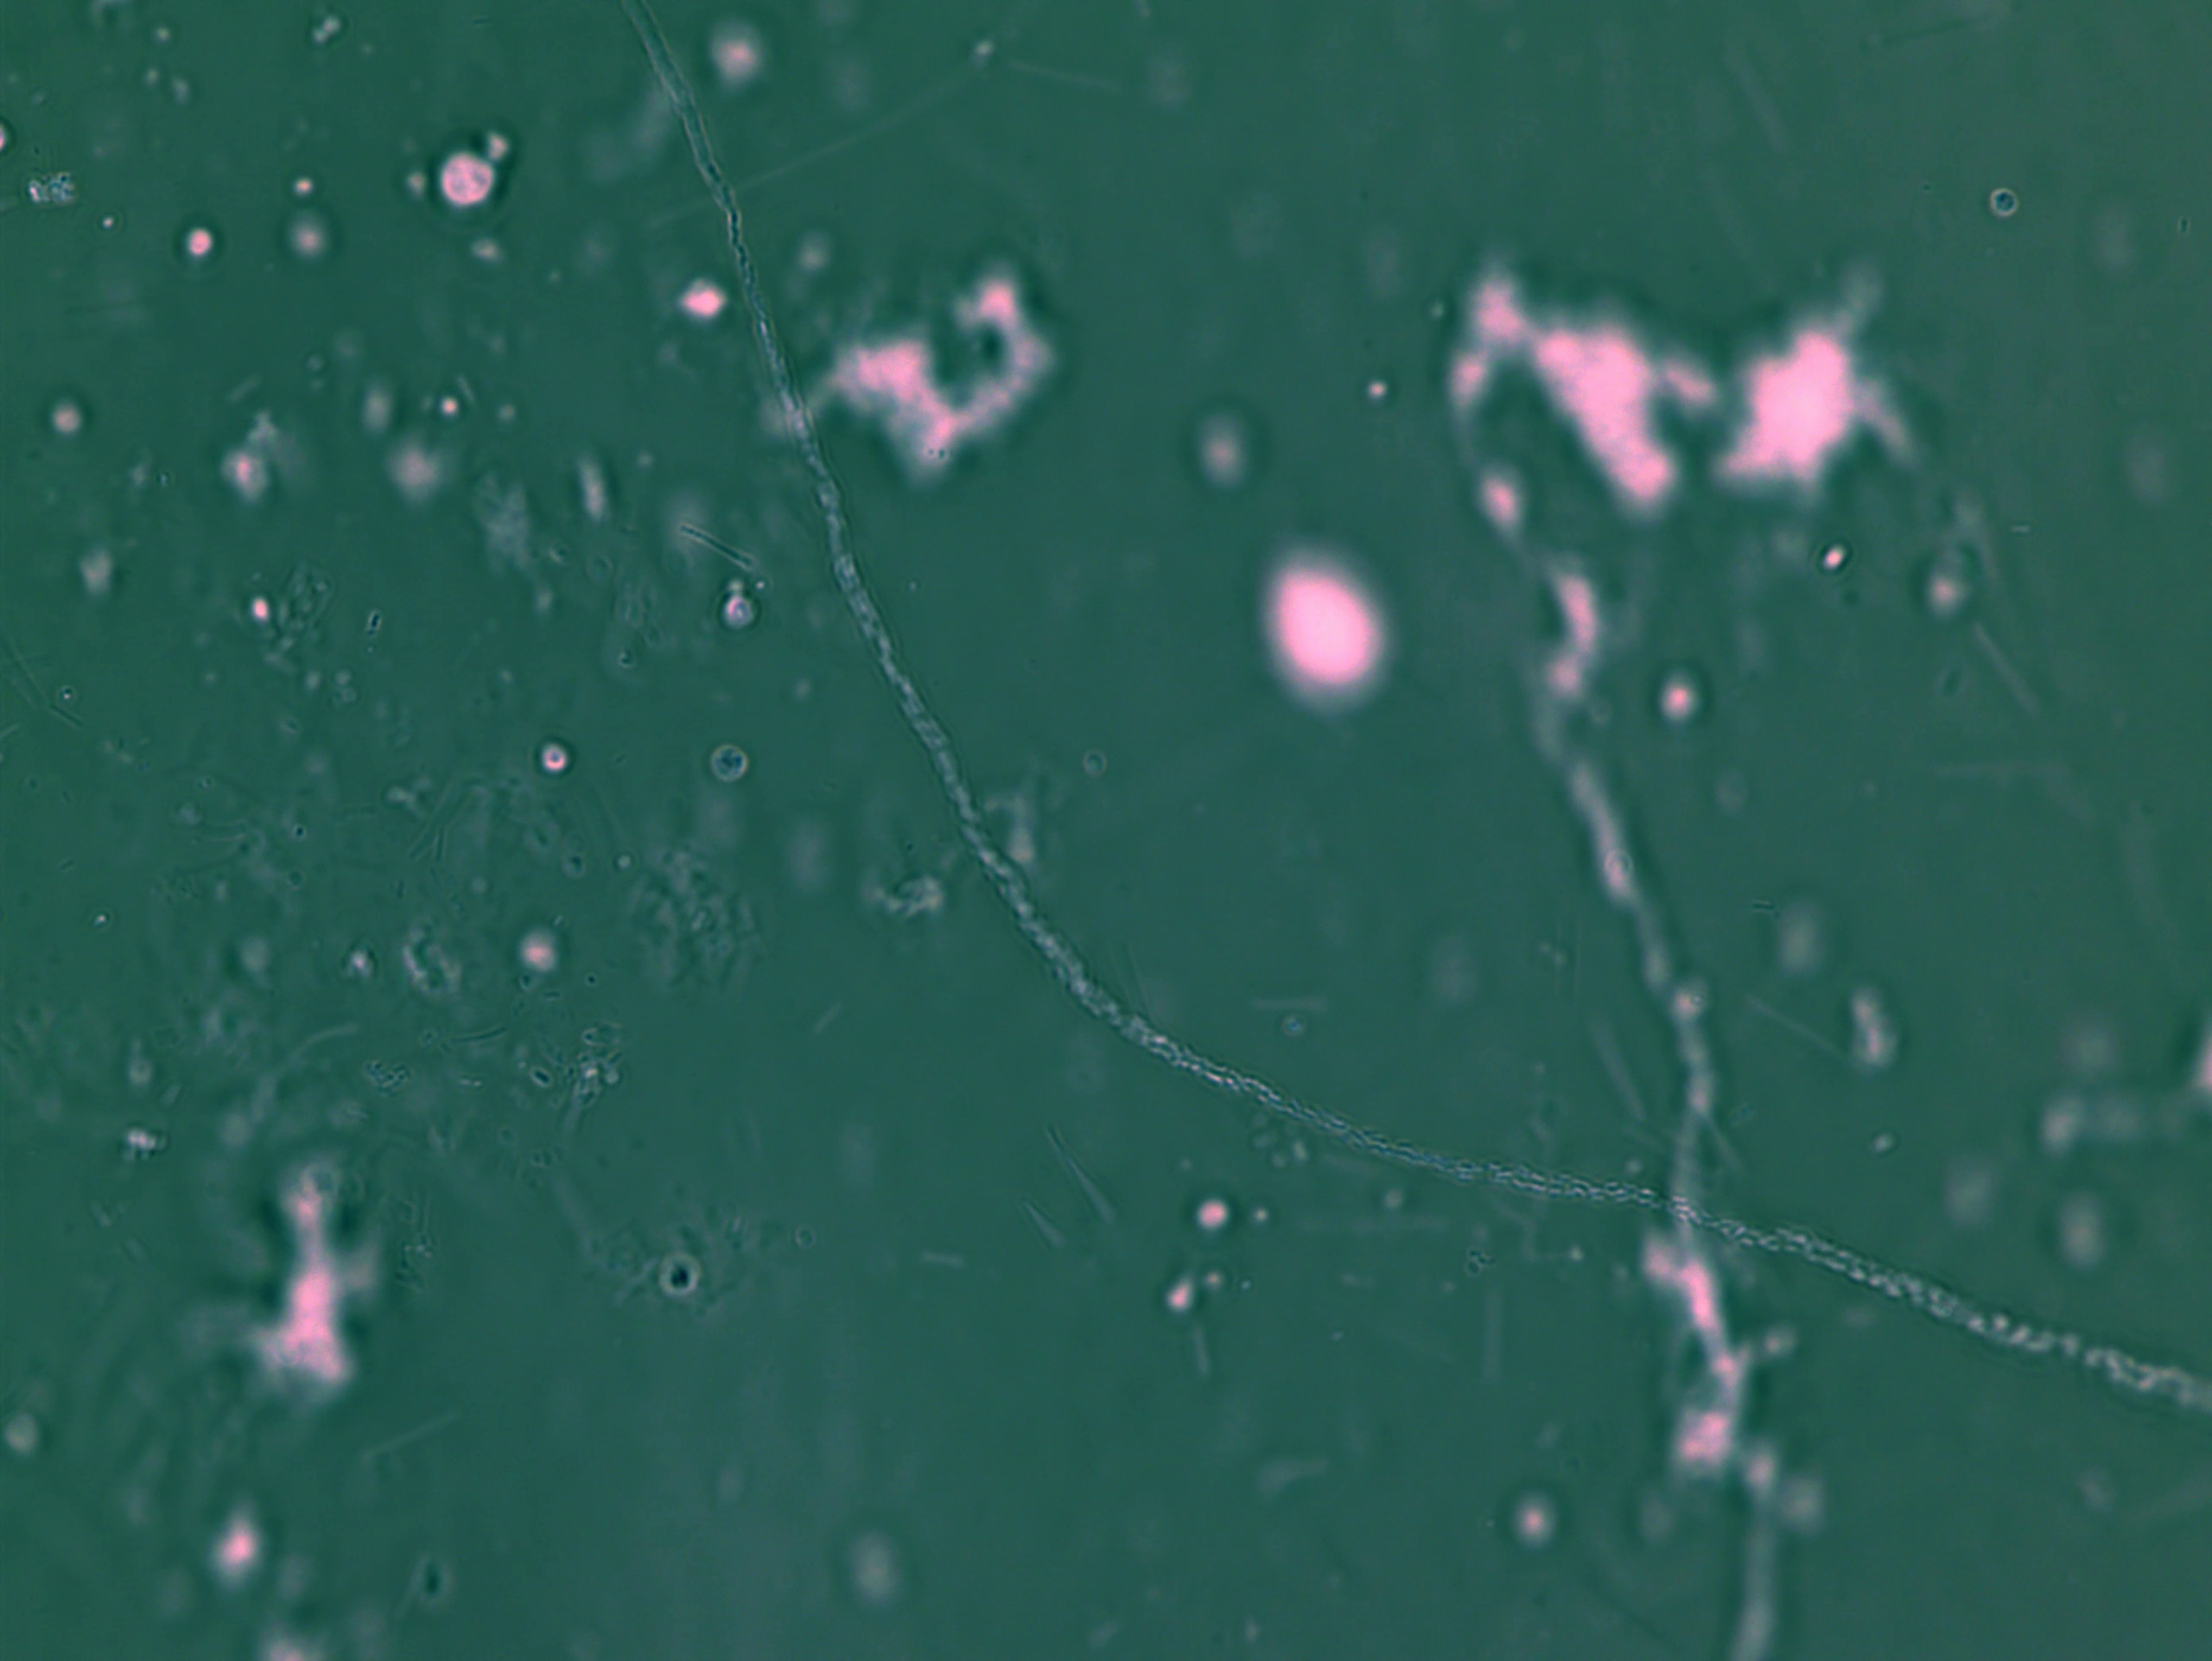depth:100: (1239, 534, 1415, 726)
